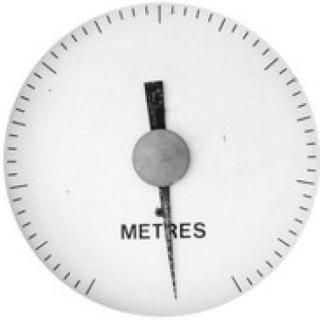gauge: (0, 0, 320, 320), (130, 128, 192, 190), (77, 272, 107, 300), (219, 265, 245, 292), (165, 274, 182, 304)
